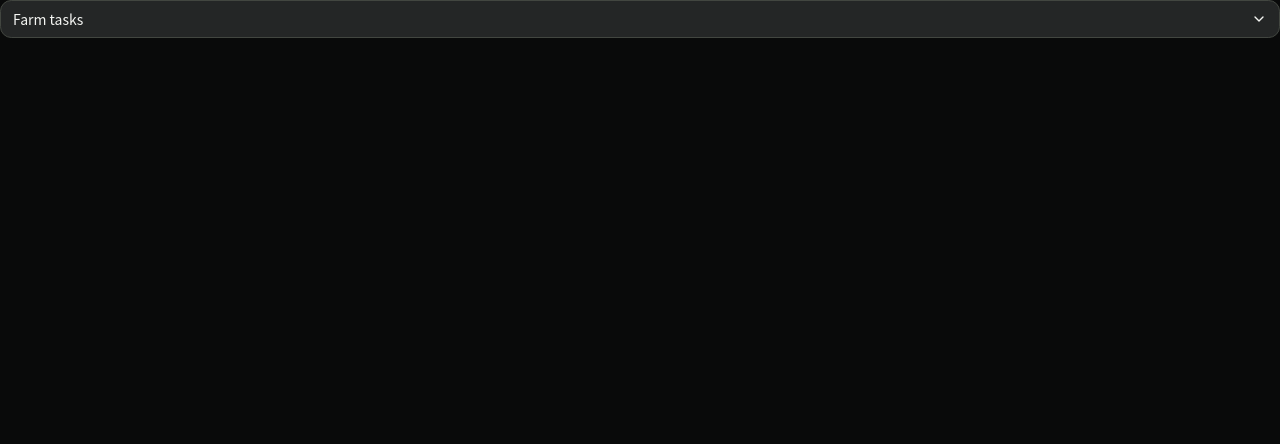
Test case: restores the last completed result link after reopening a conversation
The width and height of the screenshot is (1280, 444).
Click the heading "Farm tasks": (48, 19) top-left (13, 9), bottom-right (1267, 29)
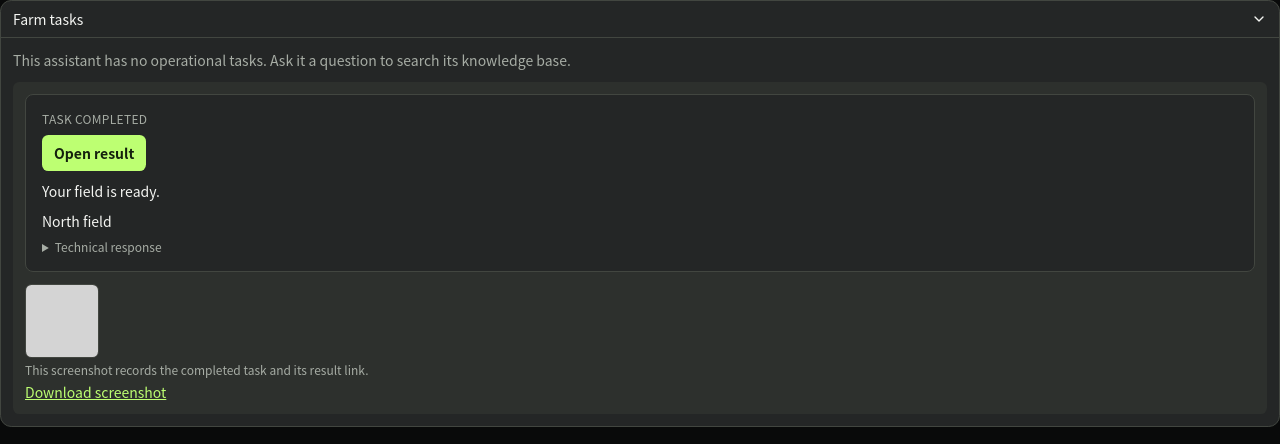
Now the text "North field" is shown, box top-left (42, 211), bottom-right (112, 231)
